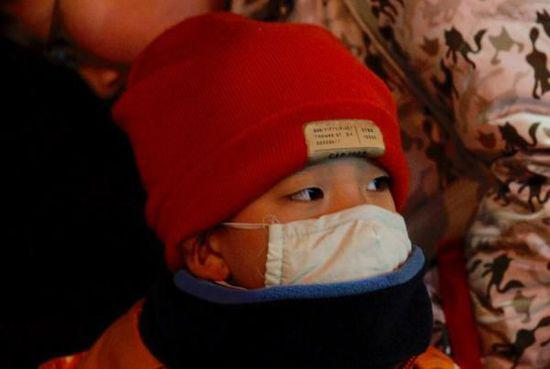OK: (242, 143, 415, 328)
